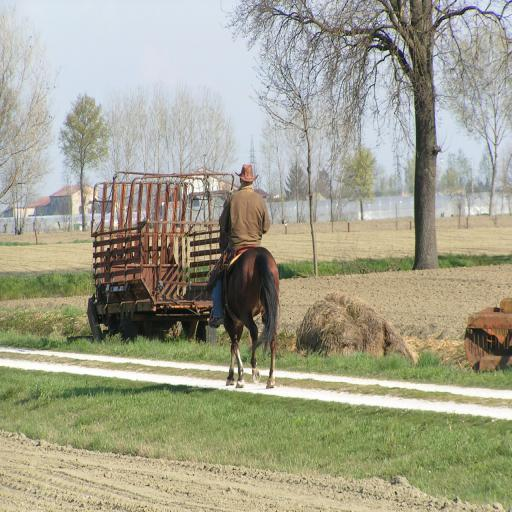horse: (220, 228, 284, 390)
